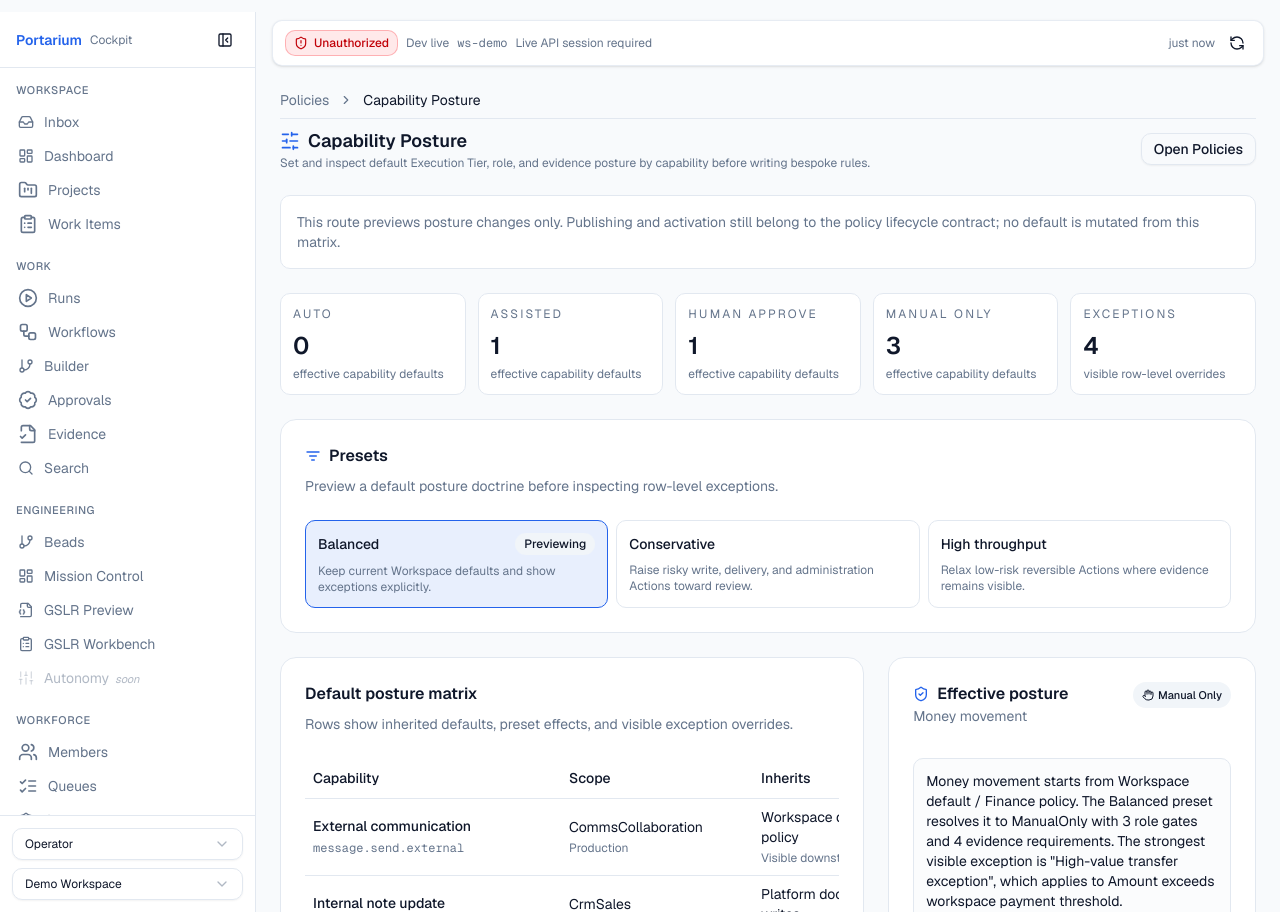
Test: Capability Posture route › previews presets and updates the effective-posture explanation
Expected: the text "The Balanced preset resolves it to ManualOnly" is shown, x1=926 y1=772 x2=1214 y2=910
Click the button "Conservative" at (768, 564), box x1=616 y1=520 x2=920 y2=608
(page scrolled)
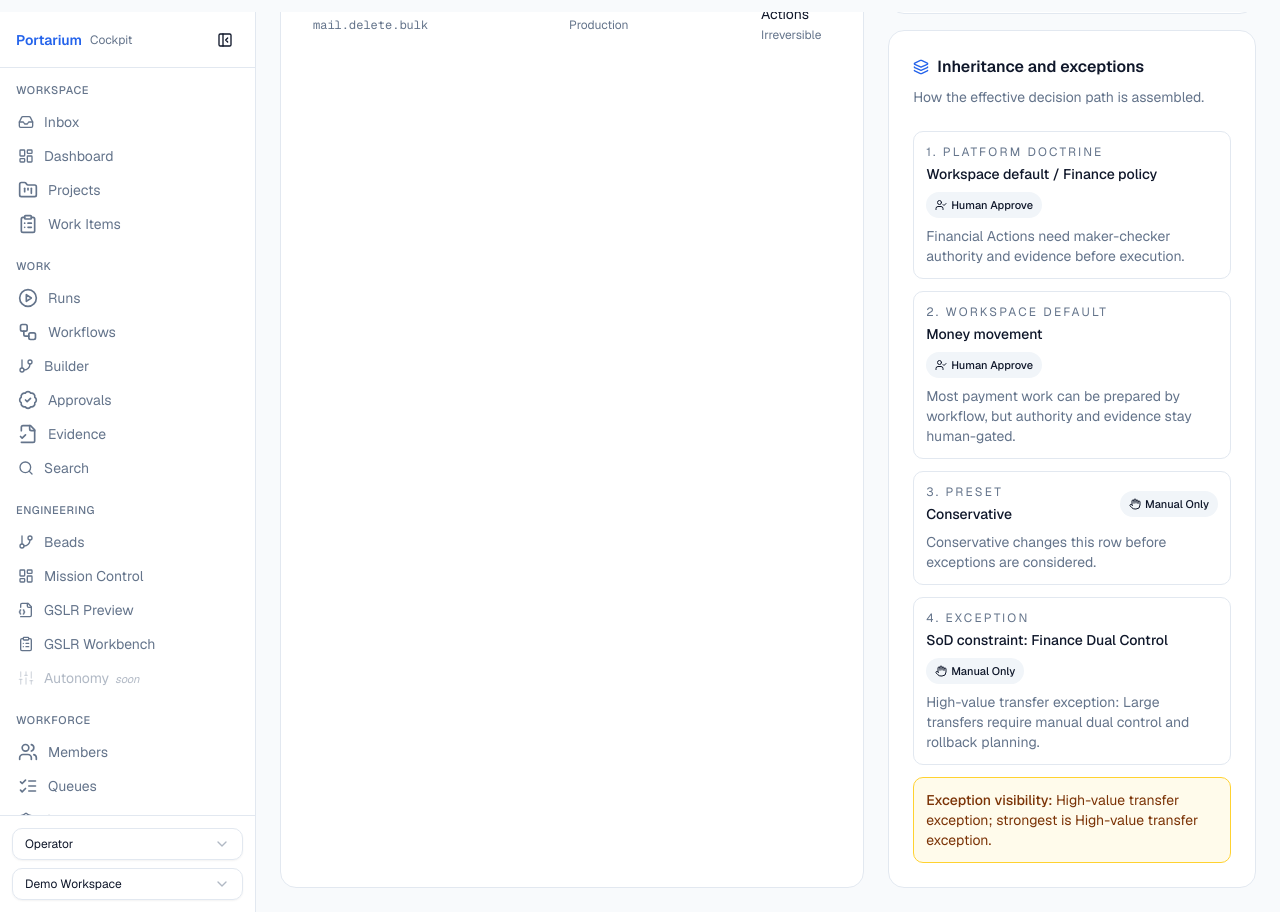
Expected: the text "Conservative changes this row before exceptions" is shown, x1=926 y1=533 x2=1166 y2=571
Expected: the text "Large transfers require manual dual control" is shown, x1=926 y1=693 x2=1189 y2=751
